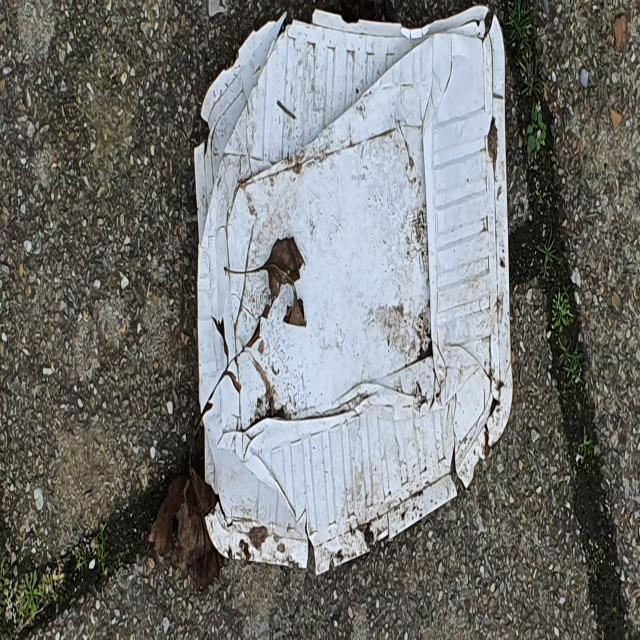Plastic: (190, 1, 516, 580)
